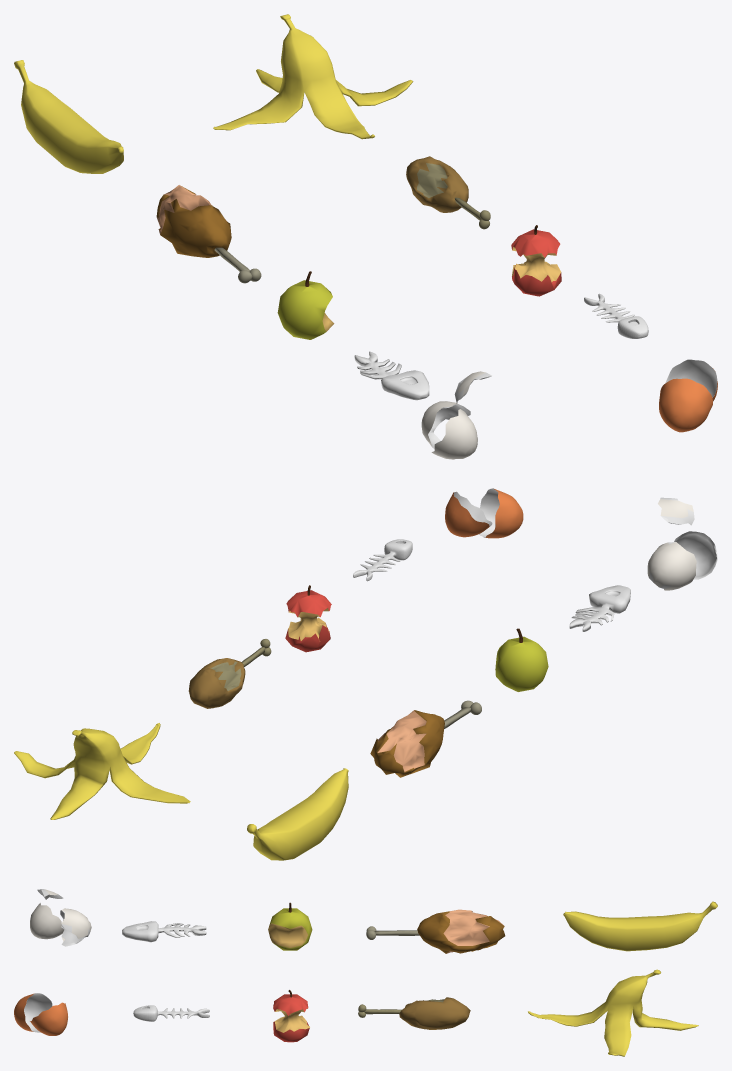
File: ORGANIC (1).fbx
3 renders of one model, top to bottom at view 1: azimuth 30°, elevation 25°; view 2: azimuth 150°, elevation 25°; view 3: azimuth 270°, elevation 25°, orthographic. The views are drawn at different scales.
Visible parts, largest first — view 1: banana.001, Cube.002, chicken 2, Icosphere.002, Icosphere.003, chicken 1, Icosphere.001, Icosphere, Cube.001, Cube; view 2: banana.001, Cube.002, chicken 2, Icosphere.003, Icosphere.002, chicken 1, Icosphere.001, Icosphere, Cube.001, Cube; view 3: Cube.002, banana.001, chicken 2, chicken 1, Icosphere.003, Icosphere.002, Icosphere.001, Icosphere, Cube.001, Cube.
Part boxes in pixels (left/top/right/bottom): banana.001: left=213, top=14, right=413, bottom=139; Cube.002: left=14, top=60, right=123, bottom=173; chicken 2: left=156, top=185, right=261, bottom=283; Icosphere.002: left=659, top=359, right=717, bottom=432; Icosphere.003: left=421, top=371, right=491, bottom=459; chicken 1: left=406, top=156, right=490, bottom=229; Icosphere.001: left=277, top=271, right=334, bottom=339; Icosphere: left=511, top=225, right=561, bottom=296; Cube.001: left=354, top=351, right=429, bottom=400; Cube: left=584, top=293, right=648, bottom=338; banana.001: left=14, top=723, right=190, bottom=819; Cube.002: left=247, top=768, right=348, bottom=860; chicken 2: left=370, top=700, right=481, bottom=777; Icosphere.003: left=647, top=497, right=717, bottom=590; Icosphere.002: left=445, top=488, right=523, bottom=538; chicken 1: left=188, top=639, right=271, bottom=708; Icosphere.001: left=495, top=628, right=548, bottom=691; Icosphere: left=285, top=585, right=331, bottom=652; Cube.001: left=569, top=585, right=630, bottom=631; Cube: left=353, top=539, right=412, bottom=581; Cube.002: left=563, top=901, right=717, bottom=951; banana.001: left=528, top=969, right=698, bottom=1056; chicken 2: left=366, top=909, right=505, bottom=953; chicken 1: left=358, top=997, right=470, bottom=1029; Icosphere.003: left=30, top=889, right=91, bottom=946; Icosphere.002: left=14, top=993, right=67, bottom=1035; Icosphere.001: left=268, top=902, right=312, bottom=950; Icosphere: left=273, top=990, right=309, bottom=1042; Cube.001: left=122, top=921, right=206, bottom=942; Cube: left=133, top=1005, right=209, bottom=1021.
Bounding box in the file's own units: 325 × 82.41 × 732.
